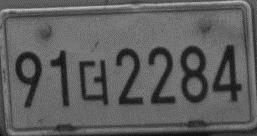1: (45, 49, 75, 107)
2: (145, 46, 177, 106), (114, 47, 144, 106)
4: (211, 43, 243, 103)
8: (178, 44, 209, 103)
9: (13, 49, 44, 108)
더: (77, 58, 109, 107)
